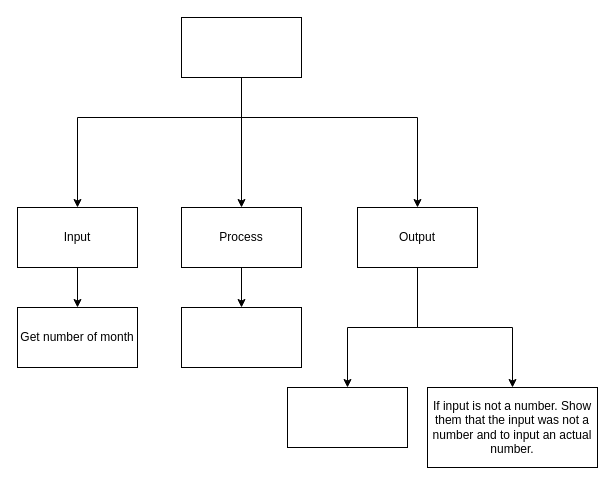
The diagram is 615 pixels wide and 485 high, and some of its shapes have lost their labels. Each missing label, with the box of its shape:
If input is a number, shows the month related to it. Ex: 1 = January: (286, 386, 408, 448)
Month Calendar: (180, 16, 302, 78)
Takes number from user and checks which month it is.: (180, 306, 302, 368)
